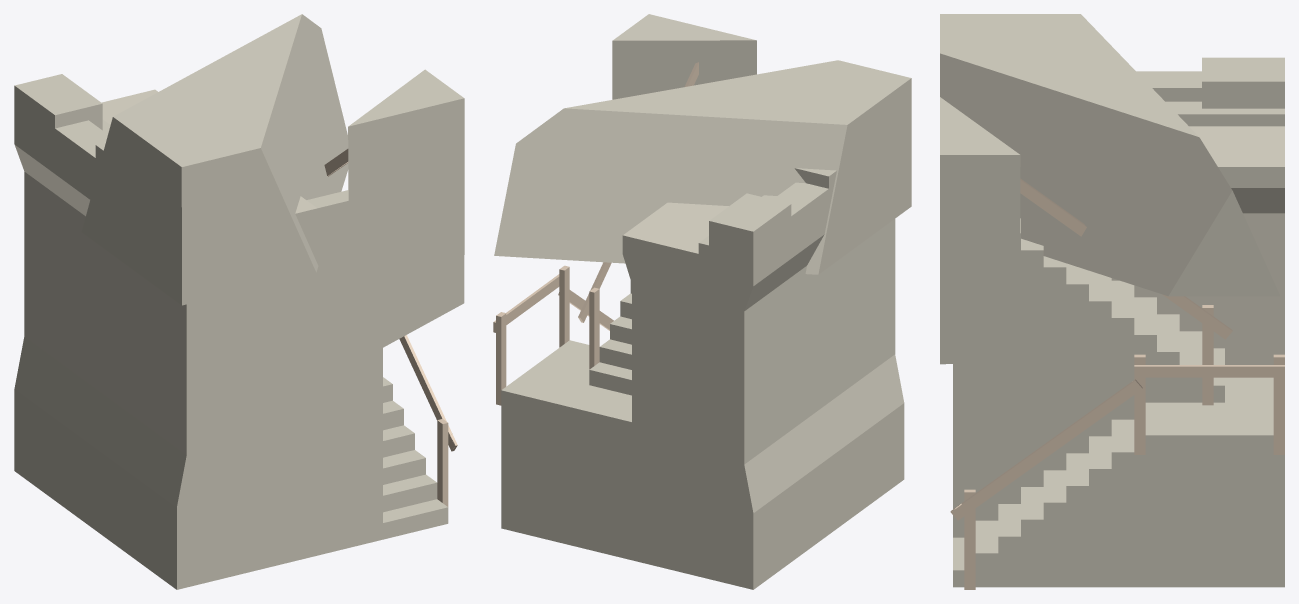
The model's file is wallNarrowStairsFence.fbx.
The picture shows the model from 3 angles, left to right: view 1: azimuth 30°, elevation 25°; view 2: azimuth 150°, elevation 25°; view 3: azimuth 270°, elevation 25°; orthographic projection. The views are drawn at different scales.
Parts seen in each view (by area): view 1: wallNarrowStairsFence_cell.002, wallNarrowStairsFence_cell, wallNarrowStairsFence, wallNarrowStairsFence_cell.005, wallNarrowStairsFence_cell.004, wallNarrowStairsFence_cell.003, wallNarrowStairsFence_cell.007, wallNarrowStairsFence_cell.001, wallNarrowStairsFence_cell.015; view 2: wallNarrowStairsFence, wallNarrowStairsFence_cell, wallNarrowStairsFence_cell.002, wallNarrowStairsFence_cell.003, wallNarrowStairsFence_cell.005, wallNarrowStairsFence_cell.004, wallNarrowStairsFence_cell.007; view 3: wallNarrowStairsFence, wallNarrowStairsFence_cell, wallNarrowStairsFence_cell.002, wallNarrowStairsFence_cell.005, wallNarrowStairsFence_cell.003, wallNarrowStairsFence_cell.004, wallNarrowStairsFence_cell.009, wallNarrowStairsFence_cell.008, wallNarrowStairsFence_cell.010, wallNarrowStairsFence_cell.007, wallNarrowStairsFence_cell.006.
Boxes of the visible parts, box(x1,y1,x2,y2) form: wallNarrowStairsFence_cell.002: box(14, 236, 368, 547); wallNarrowStairsFence_cell: box(81, 14, 348, 305); wallNarrowStairsFence: box(14, 85, 455, 589); wallNarrowStairsFence_cell.005: box(348, 69, 464, 353); wallNarrowStairsFence_cell.004: box(45, 377, 448, 589); wallNarrowStairsFence_cell.003: box(14, 74, 157, 433); wallNarrowStairsFence_cell.007: box(244, 335, 452, 486); wallNarrowStairsFence_cell.001: box(295, 190, 349, 308); wallNarrowStairsFence_cell.015: box(334, 462, 382, 488); wallNarrowStairsFence: box(493, 62, 904, 589); wallNarrowStairsFence_cell: box(494, 60, 911, 274); wallNarrowStairsFence_cell.002: box(561, 219, 904, 574); wallNarrowStairsFence_cell.003: box(623, 168, 836, 555); wallNarrowStairsFence_cell.005: box(612, 14, 756, 99); wallNarrowStairsFence_cell.004: box(501, 357, 904, 565); wallNarrowStairsFence_cell.007: box(556, 283, 613, 347); wallNarrowStairsFence: box(951, 81, 1284, 589); wallNarrowStairsFence_cell: box(940, 14, 1279, 296); wallNarrowStairsFence_cell.002: box(1014, 256, 1279, 405); wallNarrowStairsFence_cell.005: box(940, 97, 1020, 364); wallNarrowStairsFence_cell.003: box(1136, 57, 1284, 354); wallNarrowStairsFence_cell.004: box(953, 412, 1284, 577); wallNarrowStairsFence_cell.009: box(1134, 354, 1284, 410); wallNarrowStairsFence_cell.008: box(1020, 180, 1231, 339); wallNarrowStairsFence_cell.010: box(1202, 305, 1213, 405); wallNarrowStairsFence_cell.007: box(961, 370, 1167, 504); wallNarrowStairsFence_cell.006: box(950, 505, 975, 551).
Bounding box in the file's own units: 1005 × 1453 × 1039.
